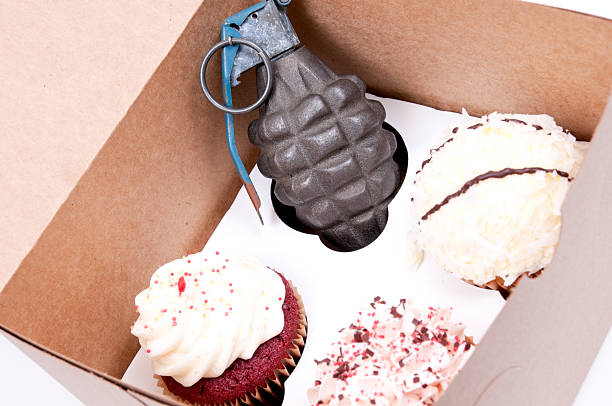e1: (203, 7, 399, 251)
